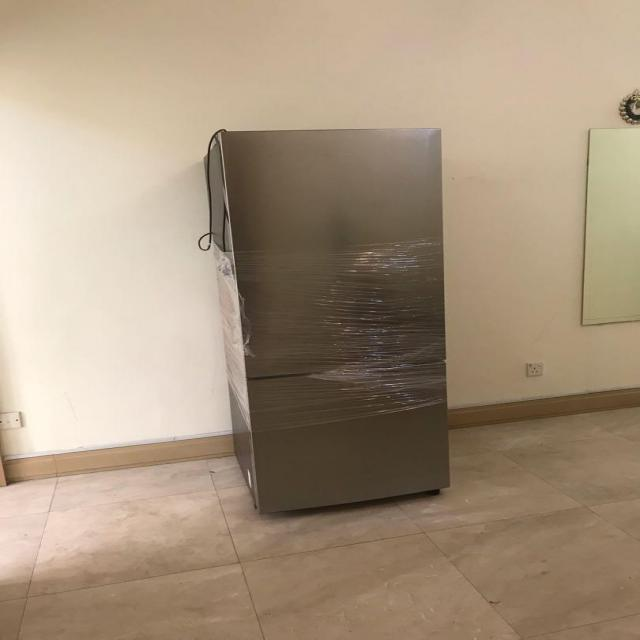refrigerator: (219, 130, 443, 518)
